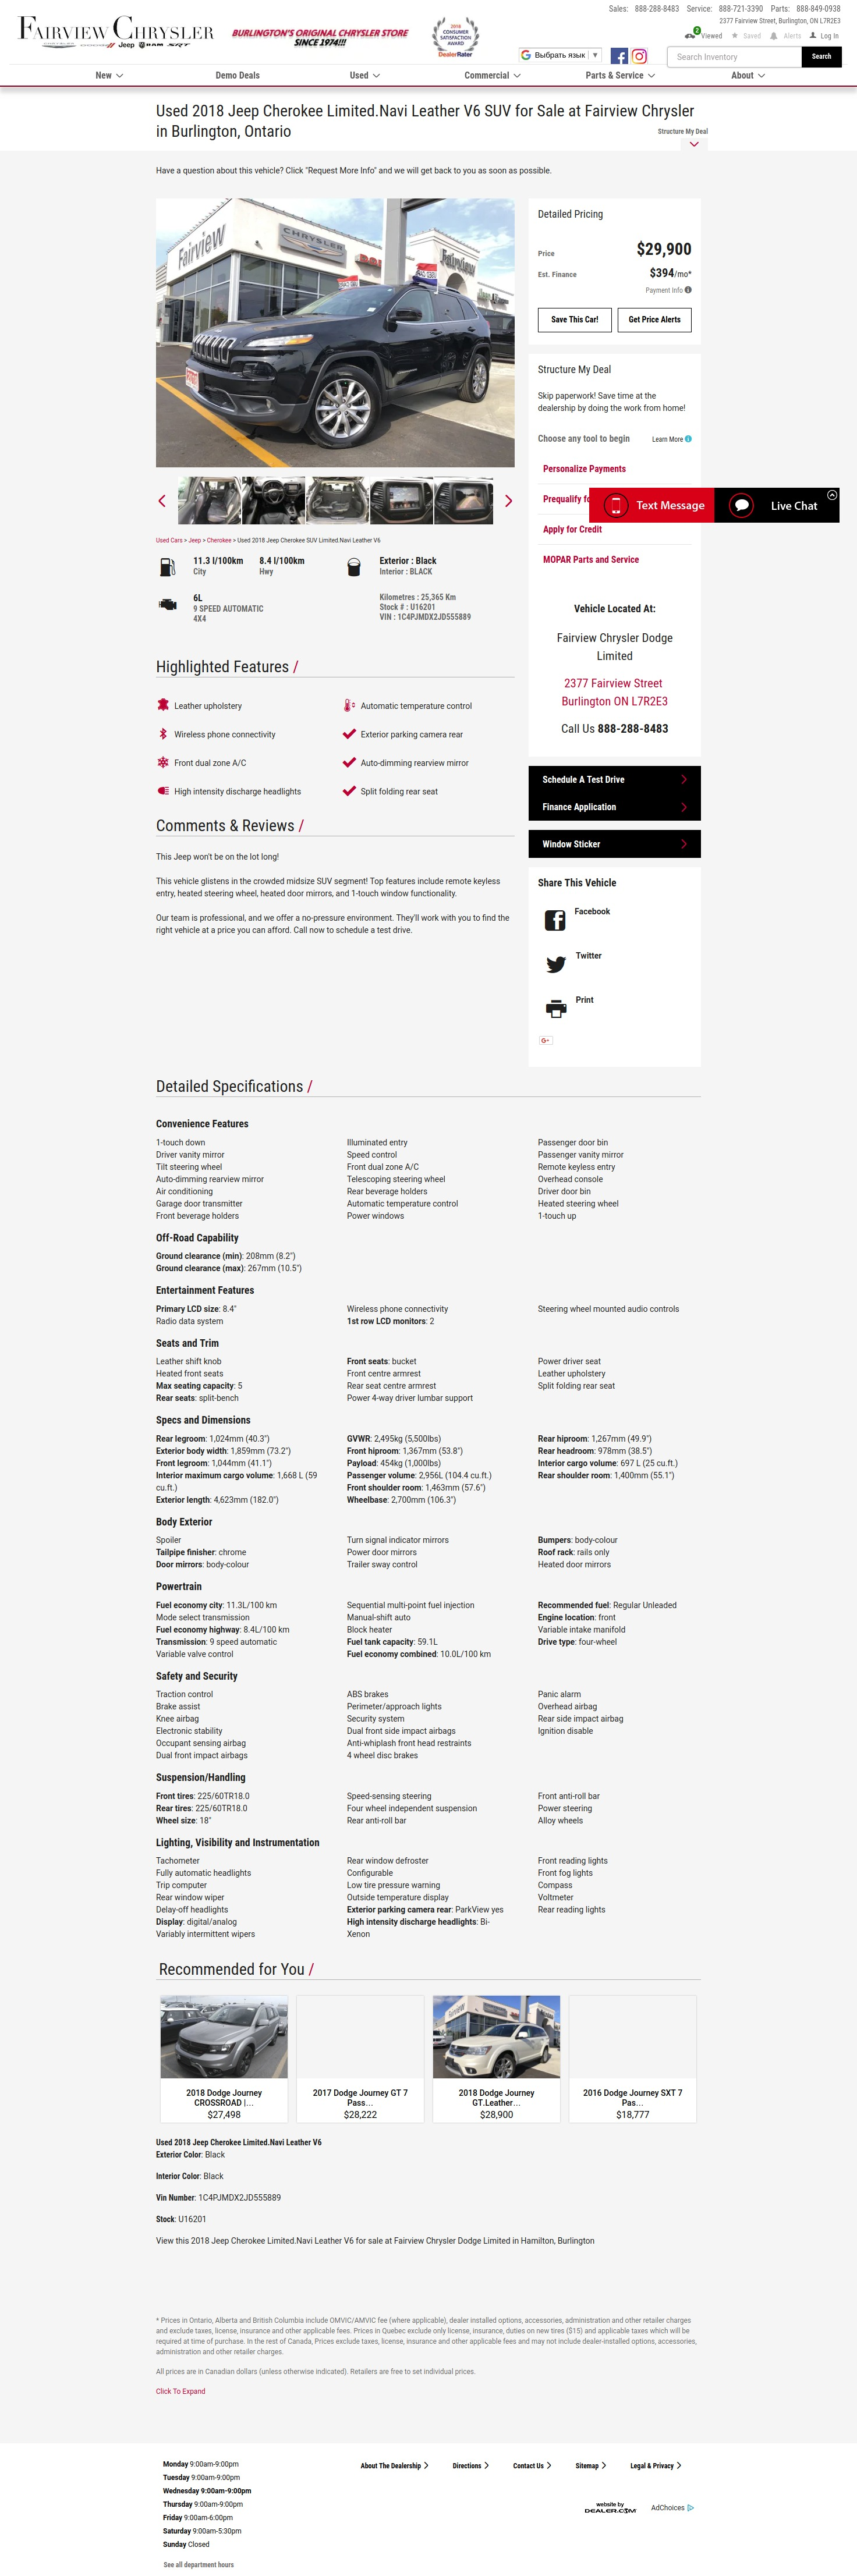car: (505, 494, 513, 508)
